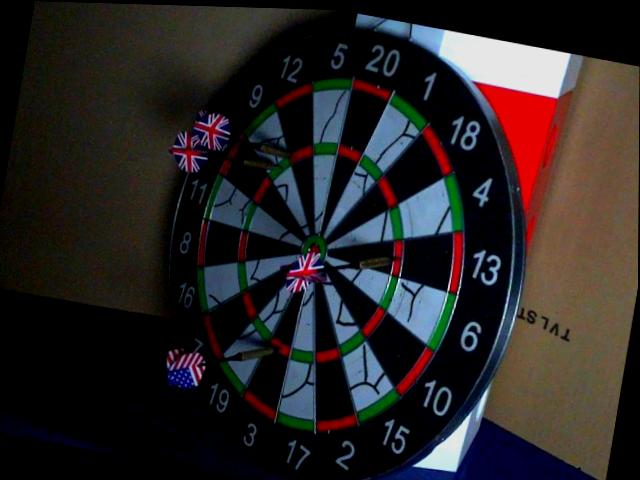triple_12: (289, 146, 312, 164)
triple_13: (391, 241, 406, 275)
triple_3: (267, 340, 288, 355)
triple_9: (267, 161, 289, 180)
